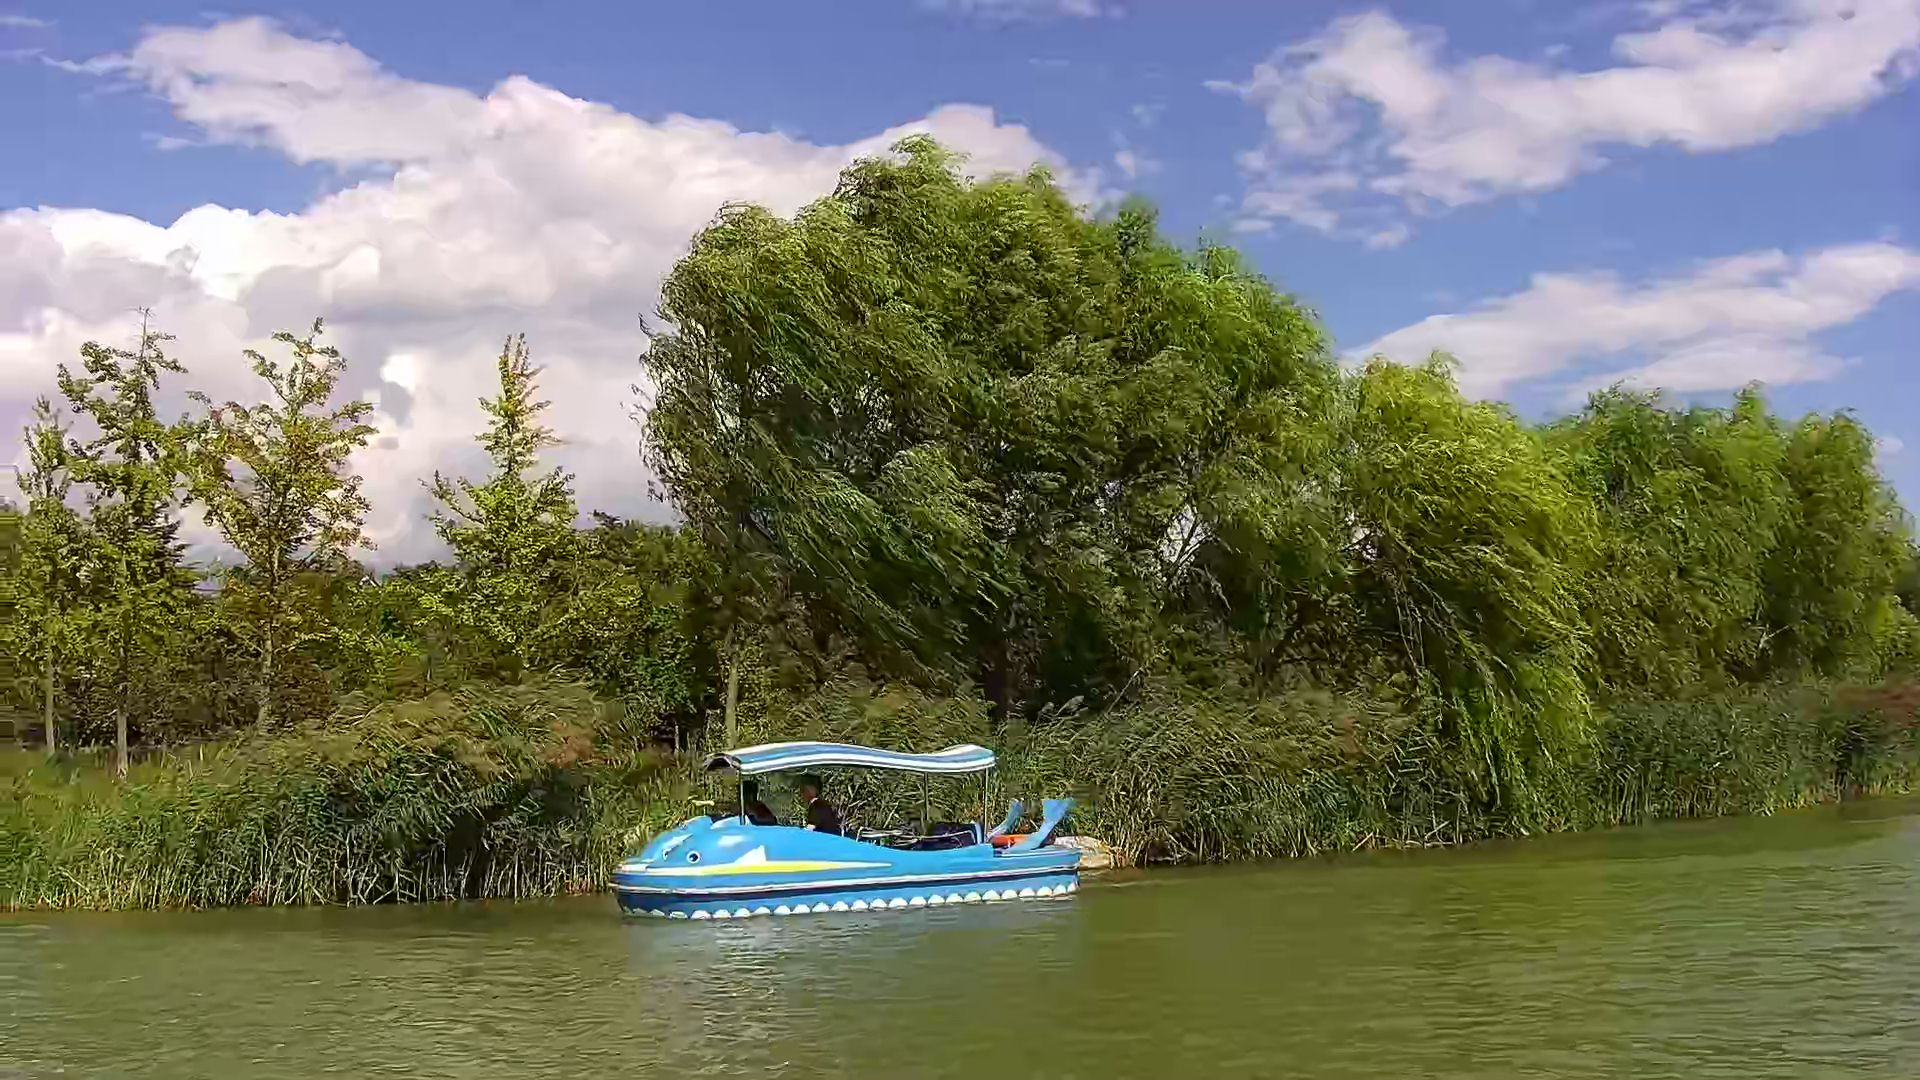boat: (610, 741, 1081, 921)
person: (785, 775, 845, 837)
